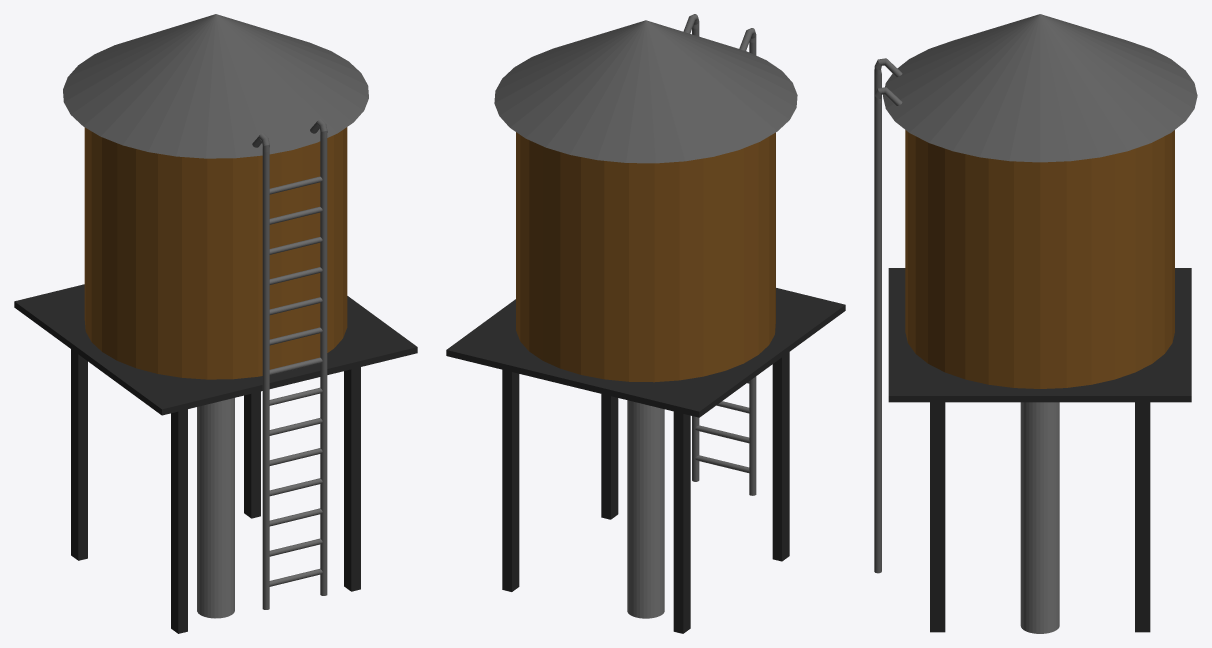
The model's file is (Japan)WaterTankWIP.fbx.
3 renders of one model, left to right at view 1: azimuth 30°, elevation 25°; view 2: azimuth 150°, elevation 25°; view 3: azimuth 270°, elevation 25°, orthographic. The views are drawn at different scales.
Parts seen in each view (by area): view 1: WaterTank; view 2: WaterTank; view 3: WaterTank.
Part boxes in pixels (x1,y1,x2,y2): WaterTank: (14, 14, 417, 633); WaterTank: (446, 14, 845, 633); WaterTank: (874, 14, 1197, 633).
Size of the model in its own units: 922 by 1977 by 947.
